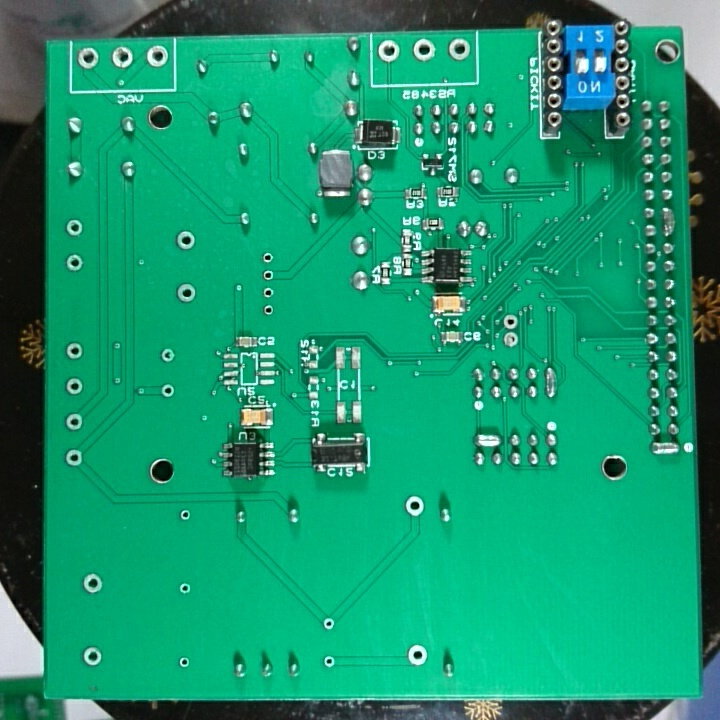F: (445, 35, 472, 64), (79, 570, 106, 597), (144, 43, 171, 70), (78, 643, 105, 669), (411, 36, 437, 63), (108, 44, 134, 70), (75, 45, 100, 72), (377, 38, 402, 65), (405, 642, 430, 668), (402, 493, 426, 519), (173, 228, 197, 252), (174, 280, 197, 305), (62, 215, 85, 238), (63, 339, 85, 363), (63, 375, 85, 398), (62, 411, 86, 432), (63, 447, 85, 469), (64, 252, 85, 275), (500, 329, 521, 349), (158, 346, 177, 366), (158, 381, 177, 400), (259, 283, 279, 300), (501, 312, 519, 330), (176, 580, 194, 598), (259, 248, 277, 266), (259, 266, 277, 284), (319, 615, 338, 632), (321, 653, 337, 670), (177, 654, 193, 671), (177, 507, 193, 524), (260, 302, 276, 318)
P: (471, 429, 505, 449), (648, 438, 682, 457), (658, 206, 677, 239), (542, 361, 557, 400)
